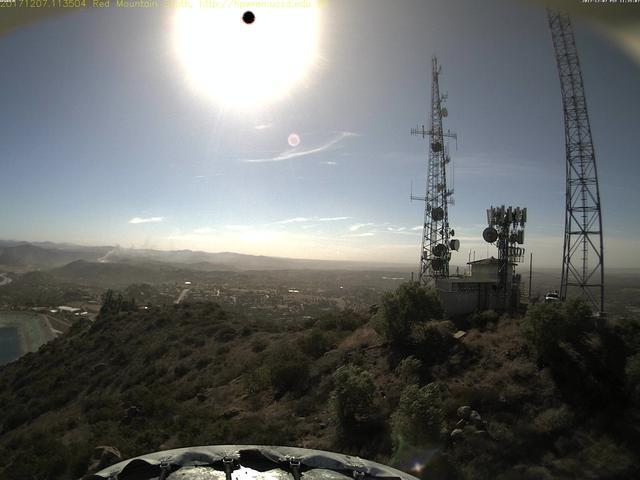smoke: (91, 232, 183, 266)
